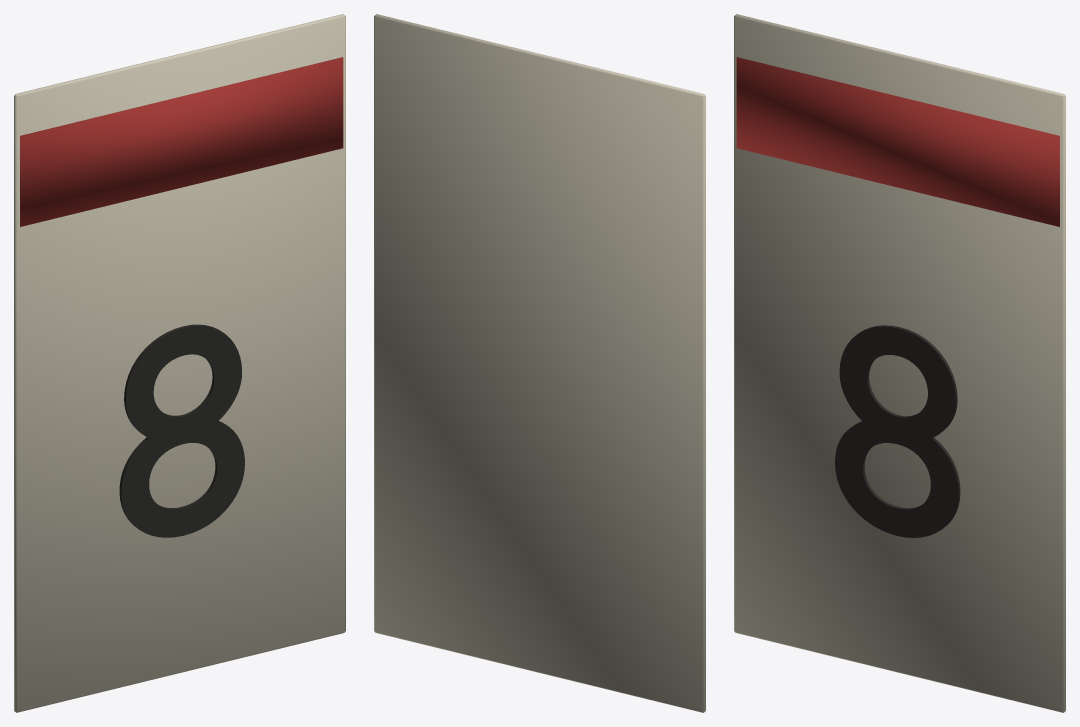
File: wartenummer_karte.glb
3 views of the same model, side by side, from view 1: azimuth 30°, elevation 25°; view 2: azimuth 150°, elevation 25°; view 3: azimuth 330°, elevation 25° (orthographic).
Parts seen in each view (by area): view 1: wartenummer_karte; view 2: wartenummer_karte; view 3: wartenummer_karte.
Boxes of the visible parts, box(x1,y1,x2,y2) form: wartenummer_karte: box(14, 14, 345, 712); wartenummer_karte: box(374, 14, 705, 712); wartenummer_karte: box(734, 14, 1065, 712).
Size of the model in its own units: 0.042 by 0.075 by 0.001.
